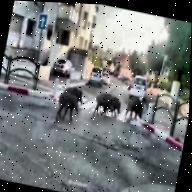boar: (51, 81, 83, 129), (120, 94, 146, 126), (61, 78, 85, 106), (90, 91, 113, 120), (107, 95, 123, 119)
